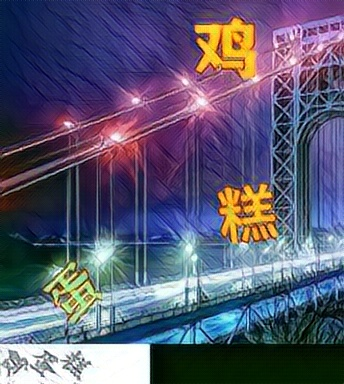B5B0: (42, 260, 105, 326)
B8E2: (215, 181, 278, 247)
BCA6: (193, 15, 256, 81)
